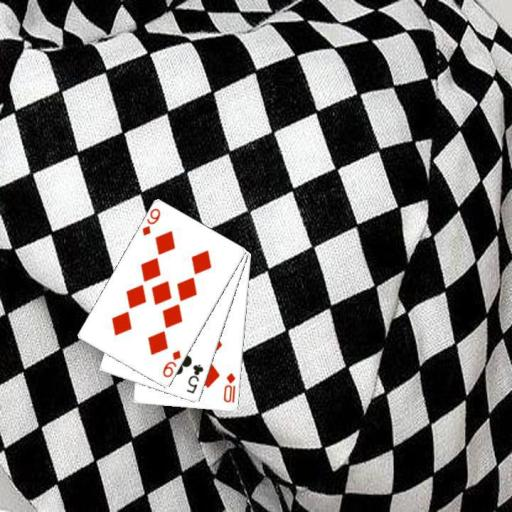10D: (220, 370, 237, 405)
5C: (184, 362, 206, 396)
9D: (159, 347, 183, 379), (139, 206, 162, 238)
